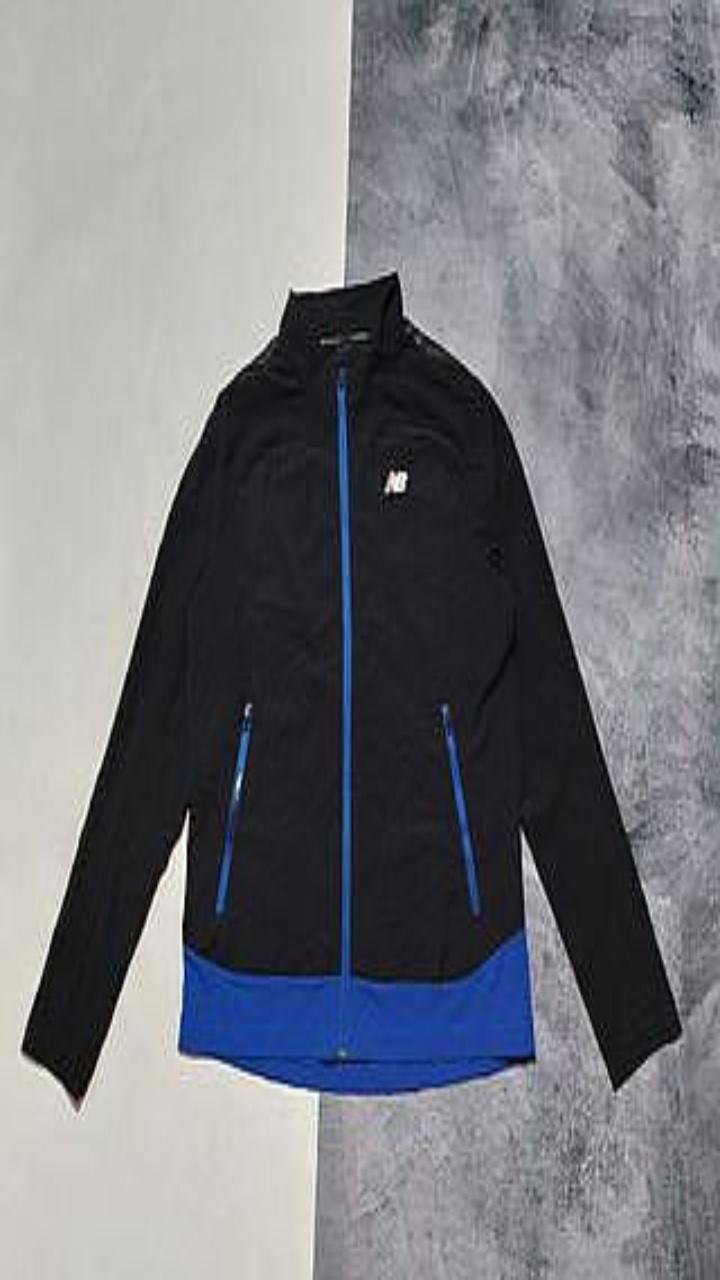Sports_Jacket: (21, 271, 680, 1101)
